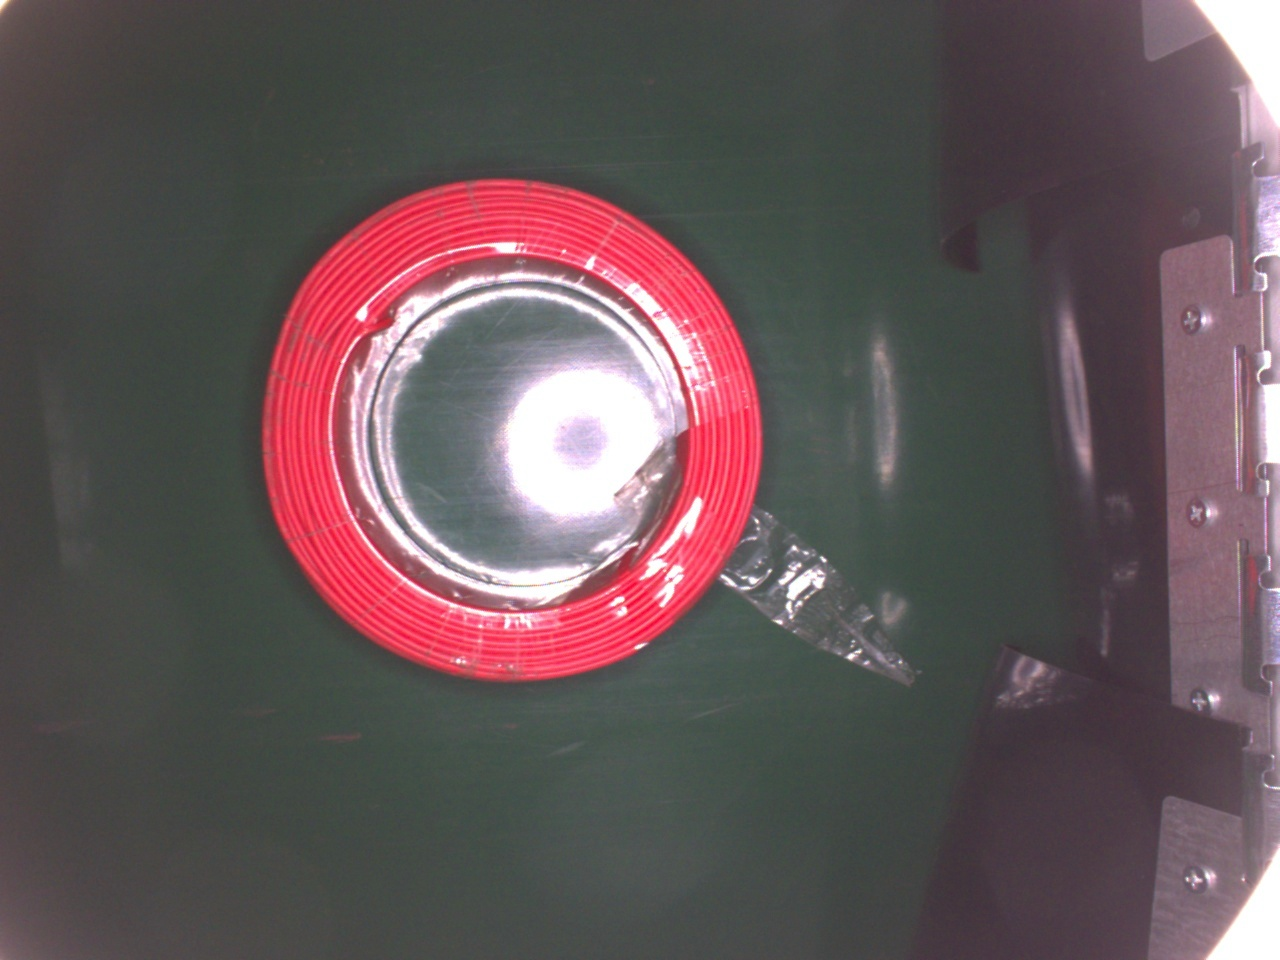red: (253, 170, 775, 686)
